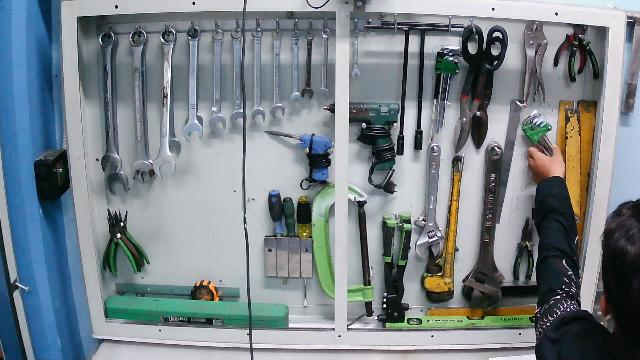kunci_l_bintang: (521, 107, 557, 161)
